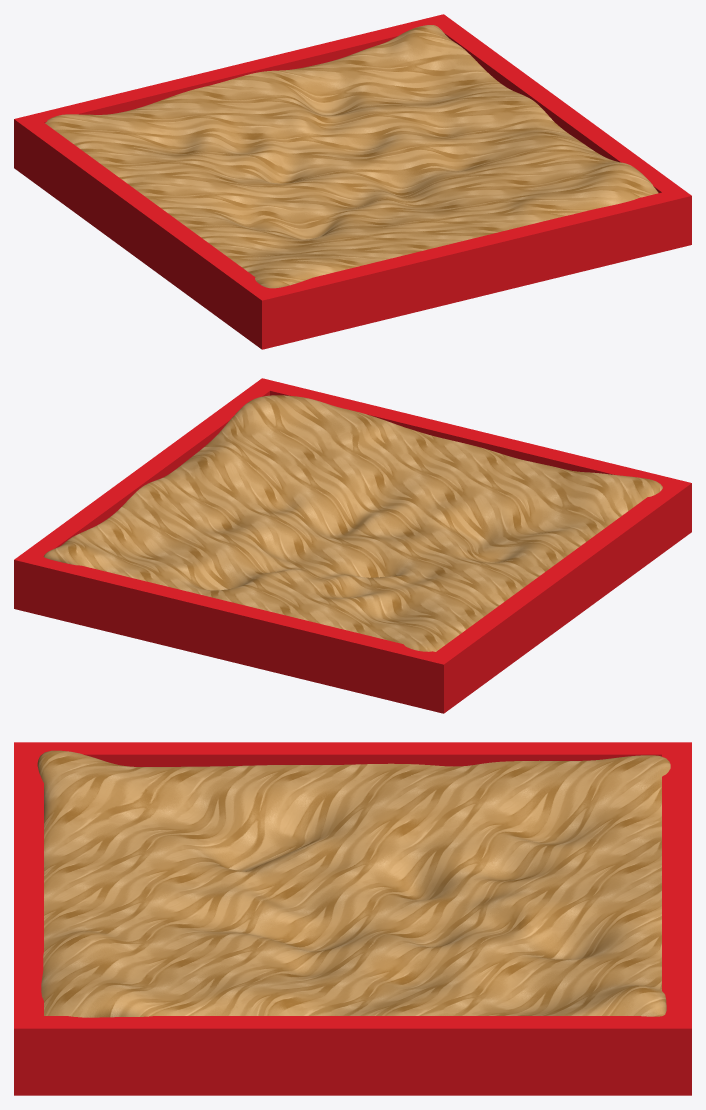
File: SandBox.fbx
The picture shows the model from 3 angles, top to bottom: view 1: azimuth 30°, elevation 25°; view 2: azimuth 150°, elevation 25°; view 3: azimuth 270°, elevation 25°; orthographic projection. The views are drawn at different scales.
Visible parts, largest first — view 1: Cube.003; view 2: Cube.003; view 3: Cube.003.
Boxes of the visible parts, x1,y1,x2,y2 form: Cube.003: (14, 14, 691, 349); Cube.003: (14, 378, 691, 713); Cube.003: (14, 742, 691, 1095).
Size of the model in its own units: 418 by 55.73 by 418.
